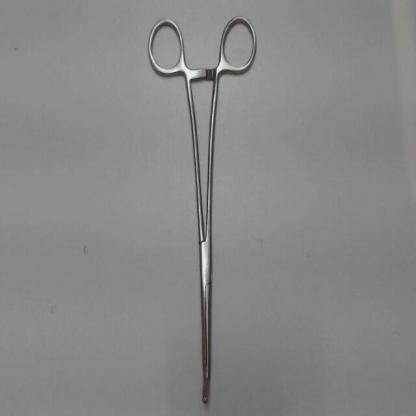Lahey Forceps: (142, 10, 261, 410)
